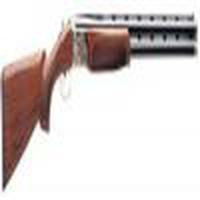gun: (4, 14, 200, 170)
